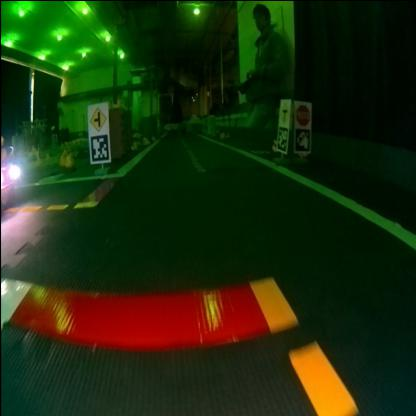Intersection sign: (90, 104, 106, 130), (278, 100, 288, 124)
QR code: (90, 132, 110, 160), (294, 127, 310, 150), (276, 125, 288, 149)
Stop sign: (295, 102, 310, 124)
